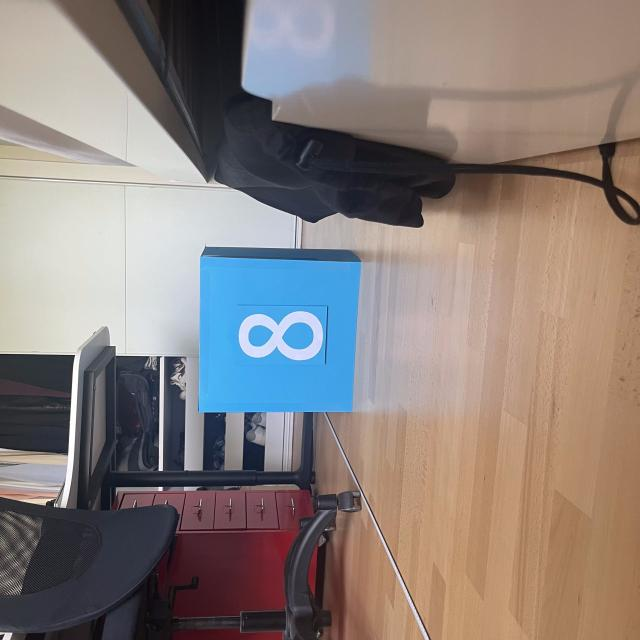box: (194, 242, 365, 415)
